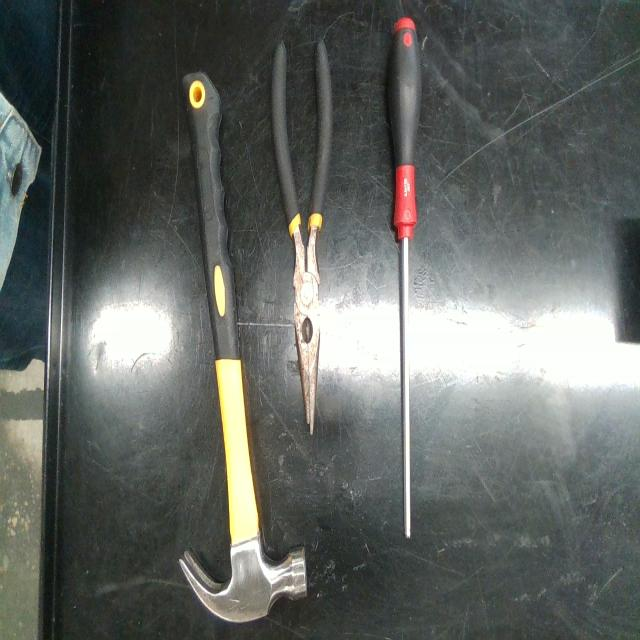Screwdriver: (389, 18, 421, 538)
